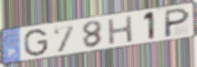1: (142, 10, 156, 41)
7: (53, 23, 76, 54)
8: (81, 20, 104, 49)
G: (23, 28, 50, 57)
H: (107, 14, 134, 47)
P: (163, 6, 192, 39)
